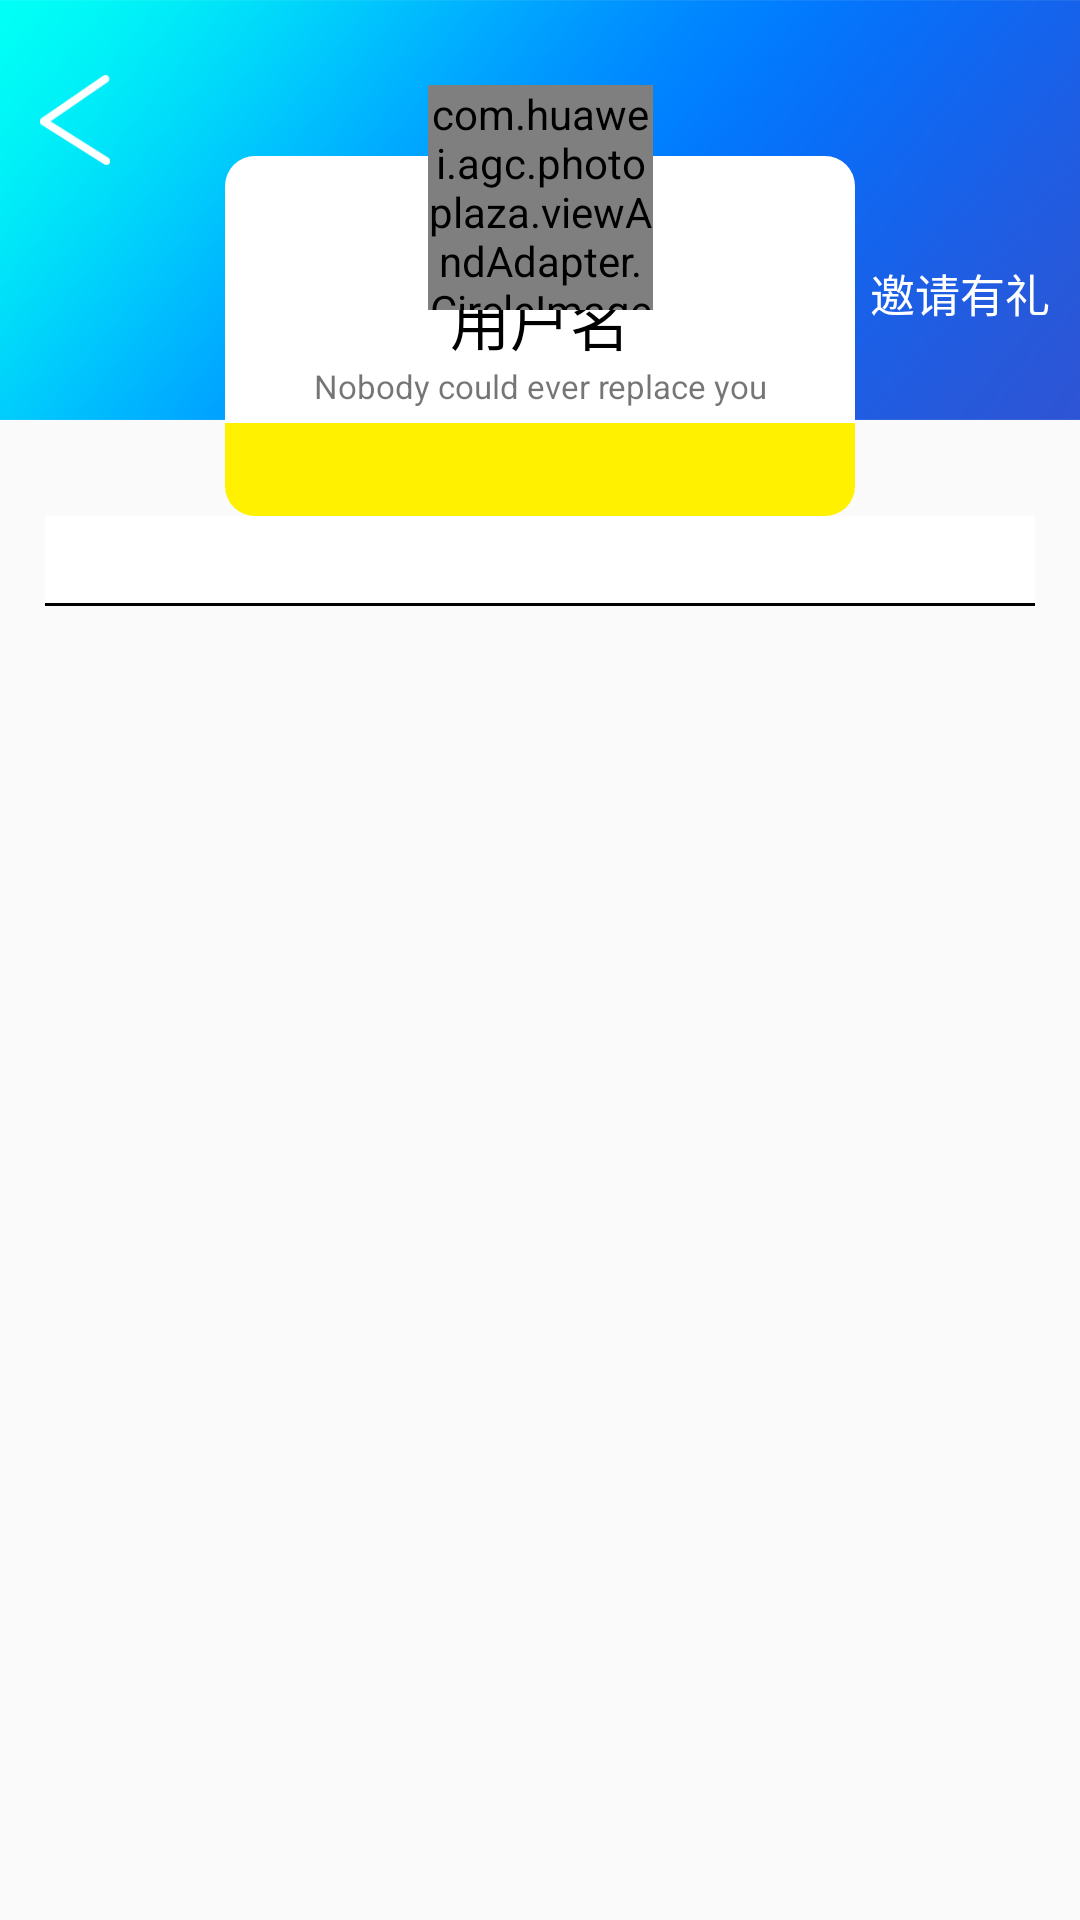

Screen size 1080px×1920px. Icon name, then its center in pixels as (x=x, y=y):
back: (x=75, y=120)
